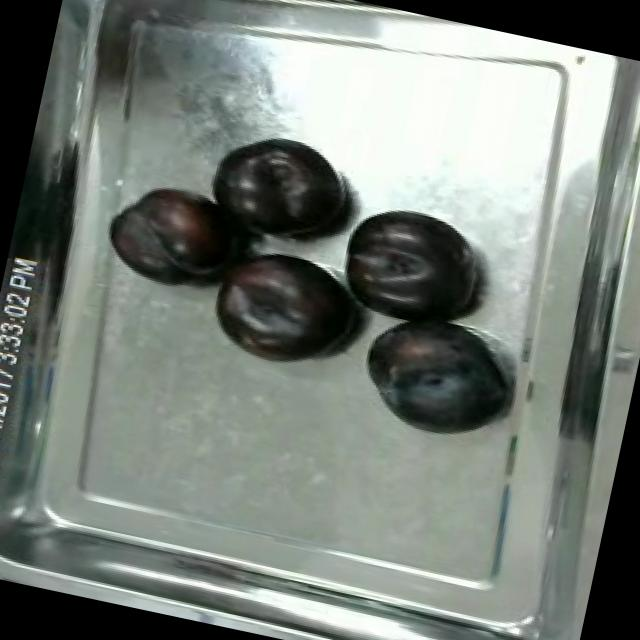Fruit: (194, 235, 372, 385), (320, 190, 496, 340), (344, 304, 520, 453), (193, 118, 369, 260), (94, 168, 243, 300)
